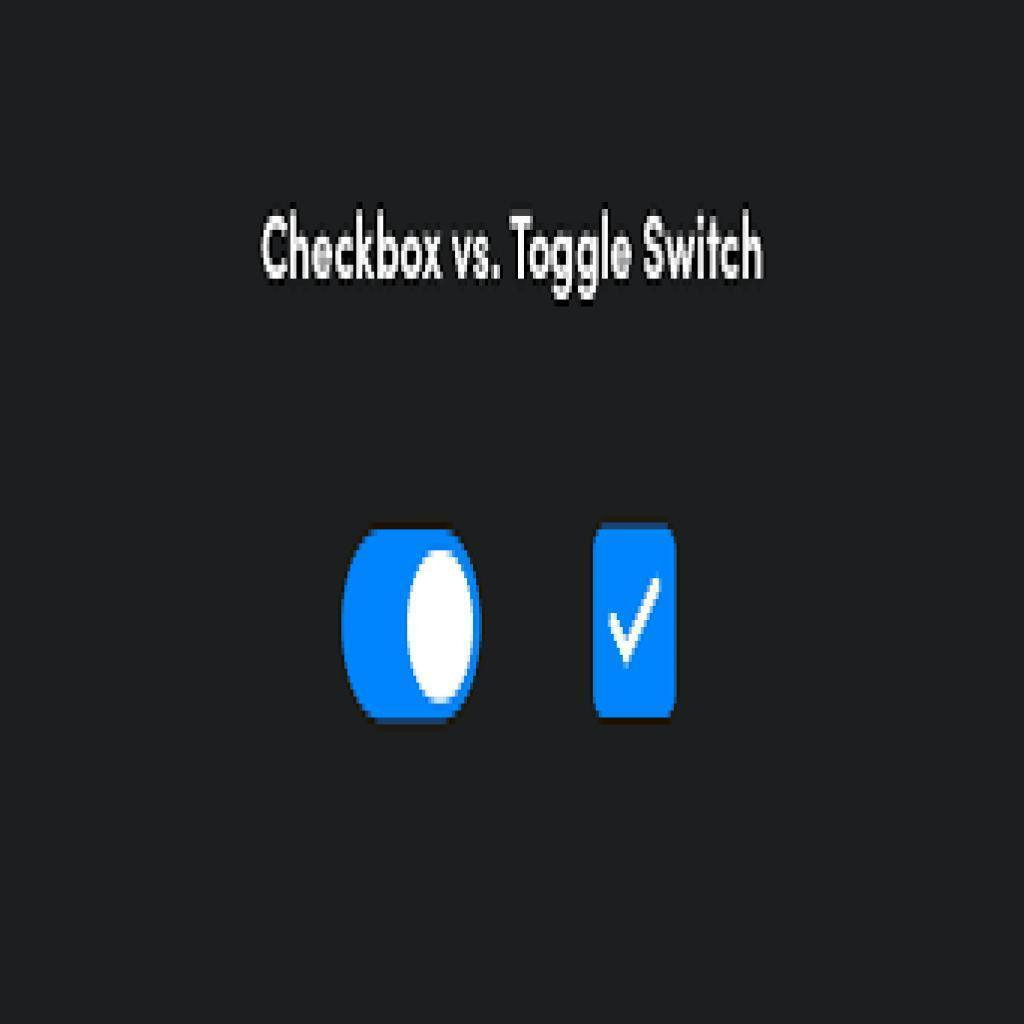checkbox: (592, 526, 675, 719)
switch: (338, 529, 481, 724)
